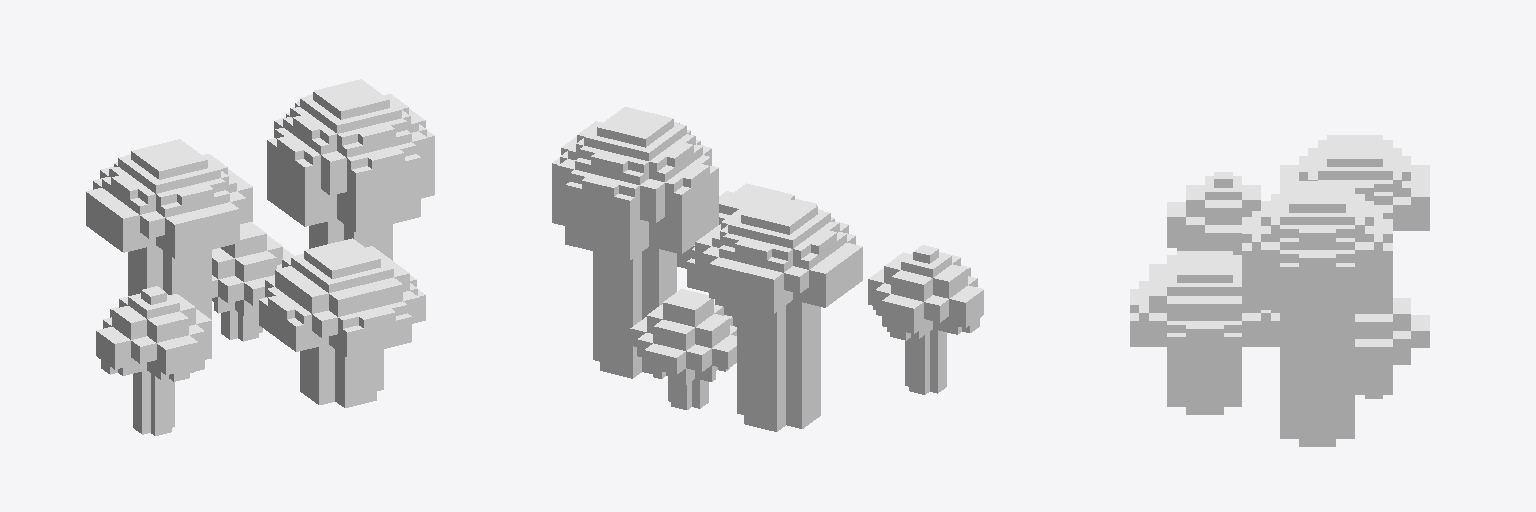
The model's file is ChampSvamp.obj.
The picture shows the model from 3 angles: view 1: azimuth 30°, elevation 25°; view 2: azimuth 150°, elevation 25°; view 3: azimuth 270°, elevation 25°; orthographic projection.
Parts seen in each view (by area): view 1: object 1; view 2: object 1; view 3: object 1.
Part boxes in pixels (x1,y1,x2,y2): object 1: (86, 79, 434, 435); object 1: (552, 107, 983, 431); object 1: (1130, 135, 1429, 446).
Bounding box in the file's own units: 4.4 × 2.8 × 3.2.